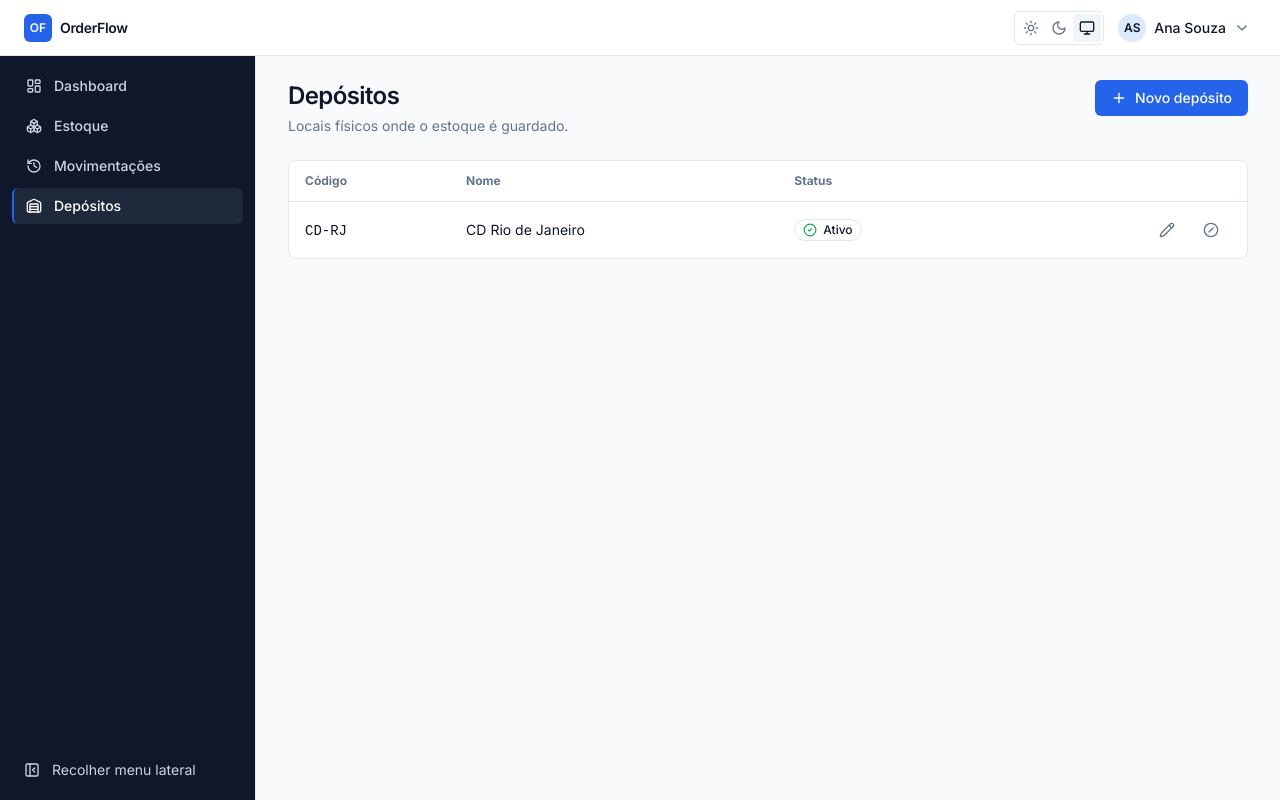
WarehousesPage › keeps the confirmation open and explains why a stocked warehouse cannot be deactivated
Click the 7th button at coordinates (1211, 230), box [1191,214,1231,246]
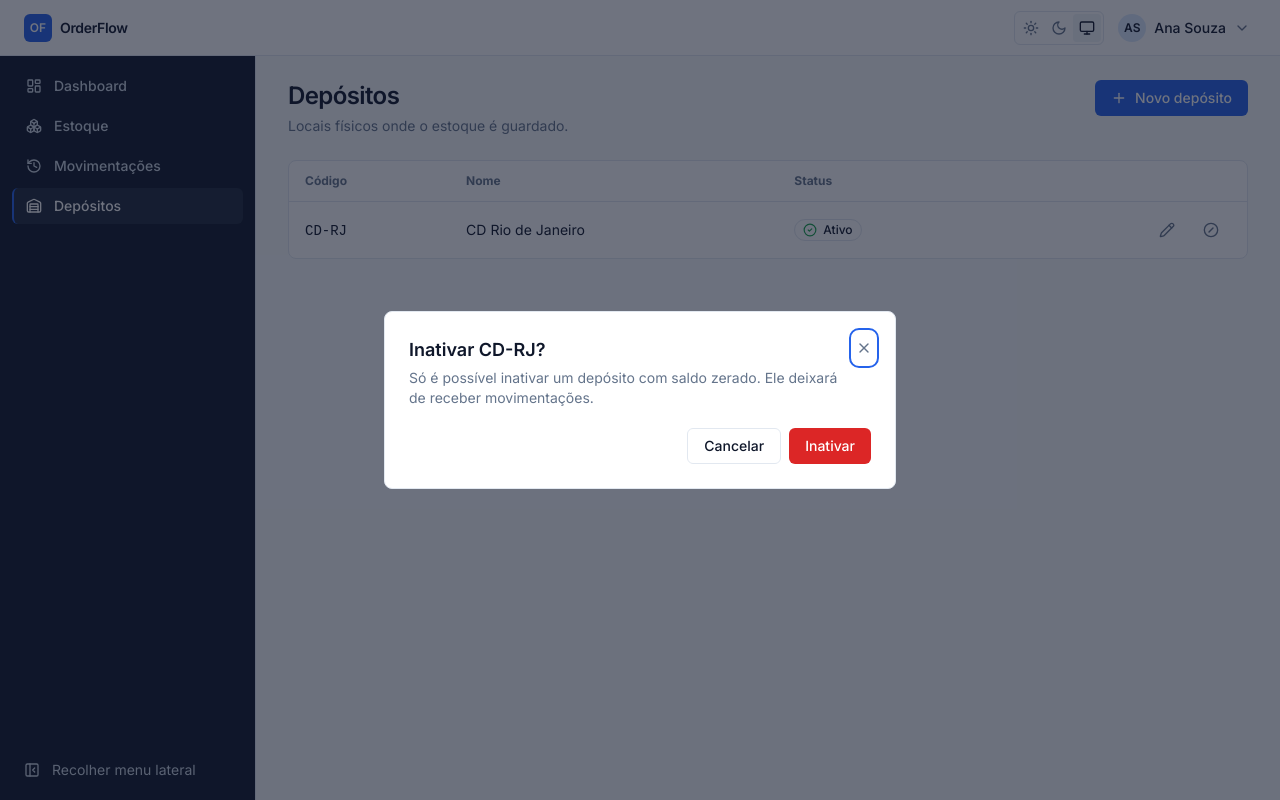
Click the button "Inativar" at coordinates (830, 446), box [789,428,871,464]
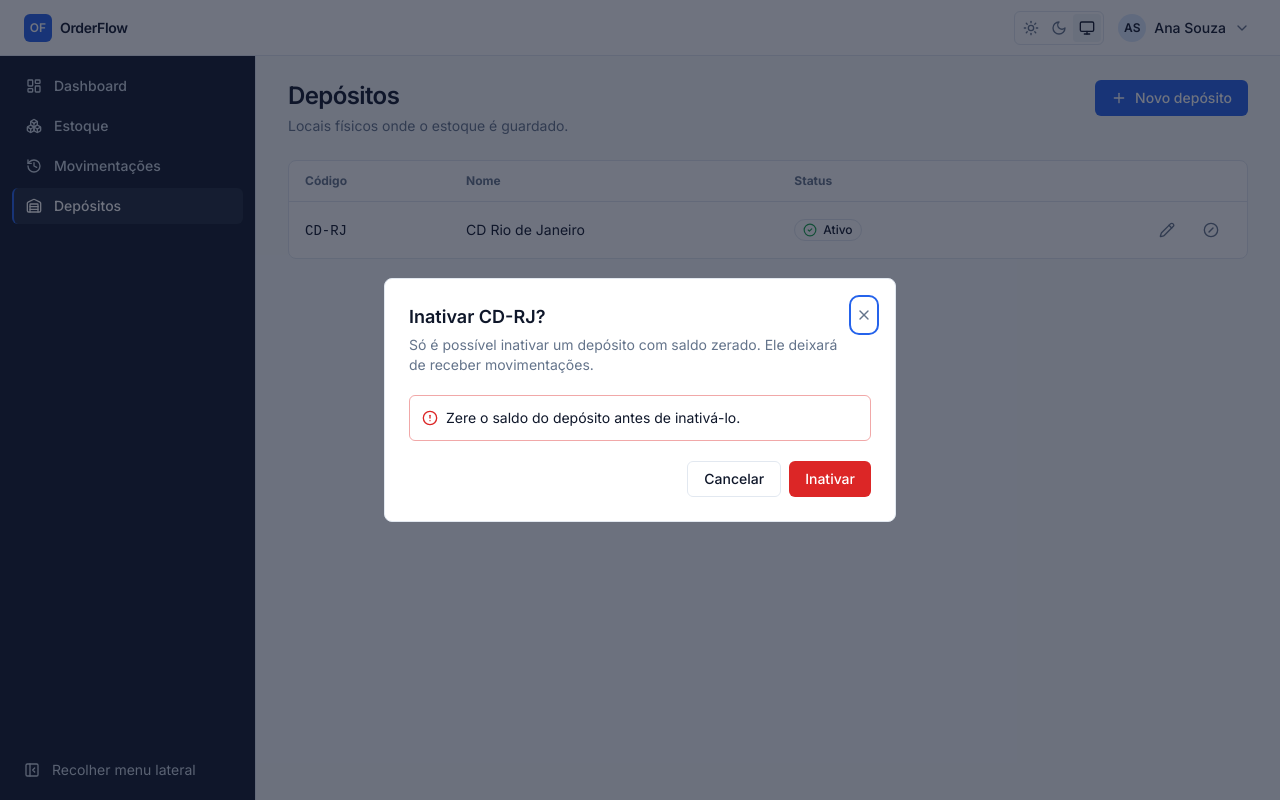
Check: the message "Zere o saldo do depósito antes de inativá-lo." is shown, box [409,395,871,441]
